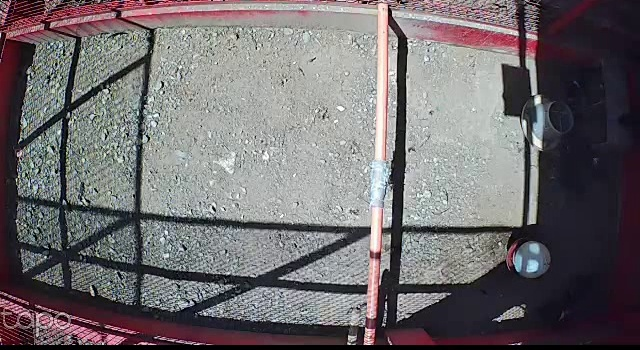Drinker: (506, 237, 552, 279)
Feeder: (519, 94, 576, 154)
